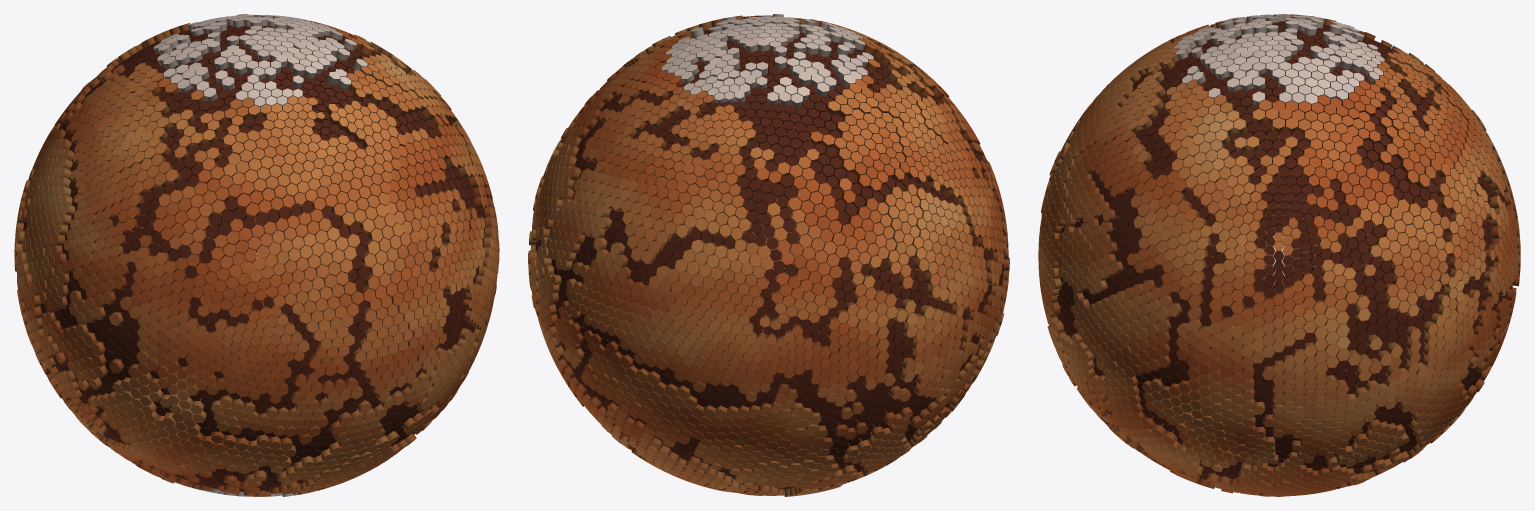
File: desert_1.glb
The picture shows the model from 3 angles, left to right: view 1: azimuth 30°, elevation 25°; view 2: azimuth 150°, elevation 25°; view 3: azimuth 270°, elevation 25°; orthographic projection.
Visible parts, largest first — view 1: desert_1; view 2: desert_1; view 3: desert_1.
Part boxes in pixels (box(x1,y1,x2,y2)): desert_1: box(14, 14, 499, 496); desert_1: box(528, 14, 1009, 496); desert_1: box(1038, 14, 1520, 496).
Size of the model in its own units: 2.06 by 2.05 by 2.04.
